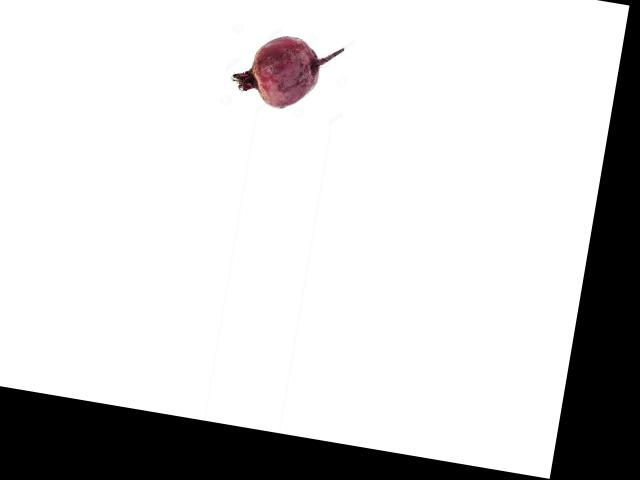beet: (227, 27, 344, 116)
